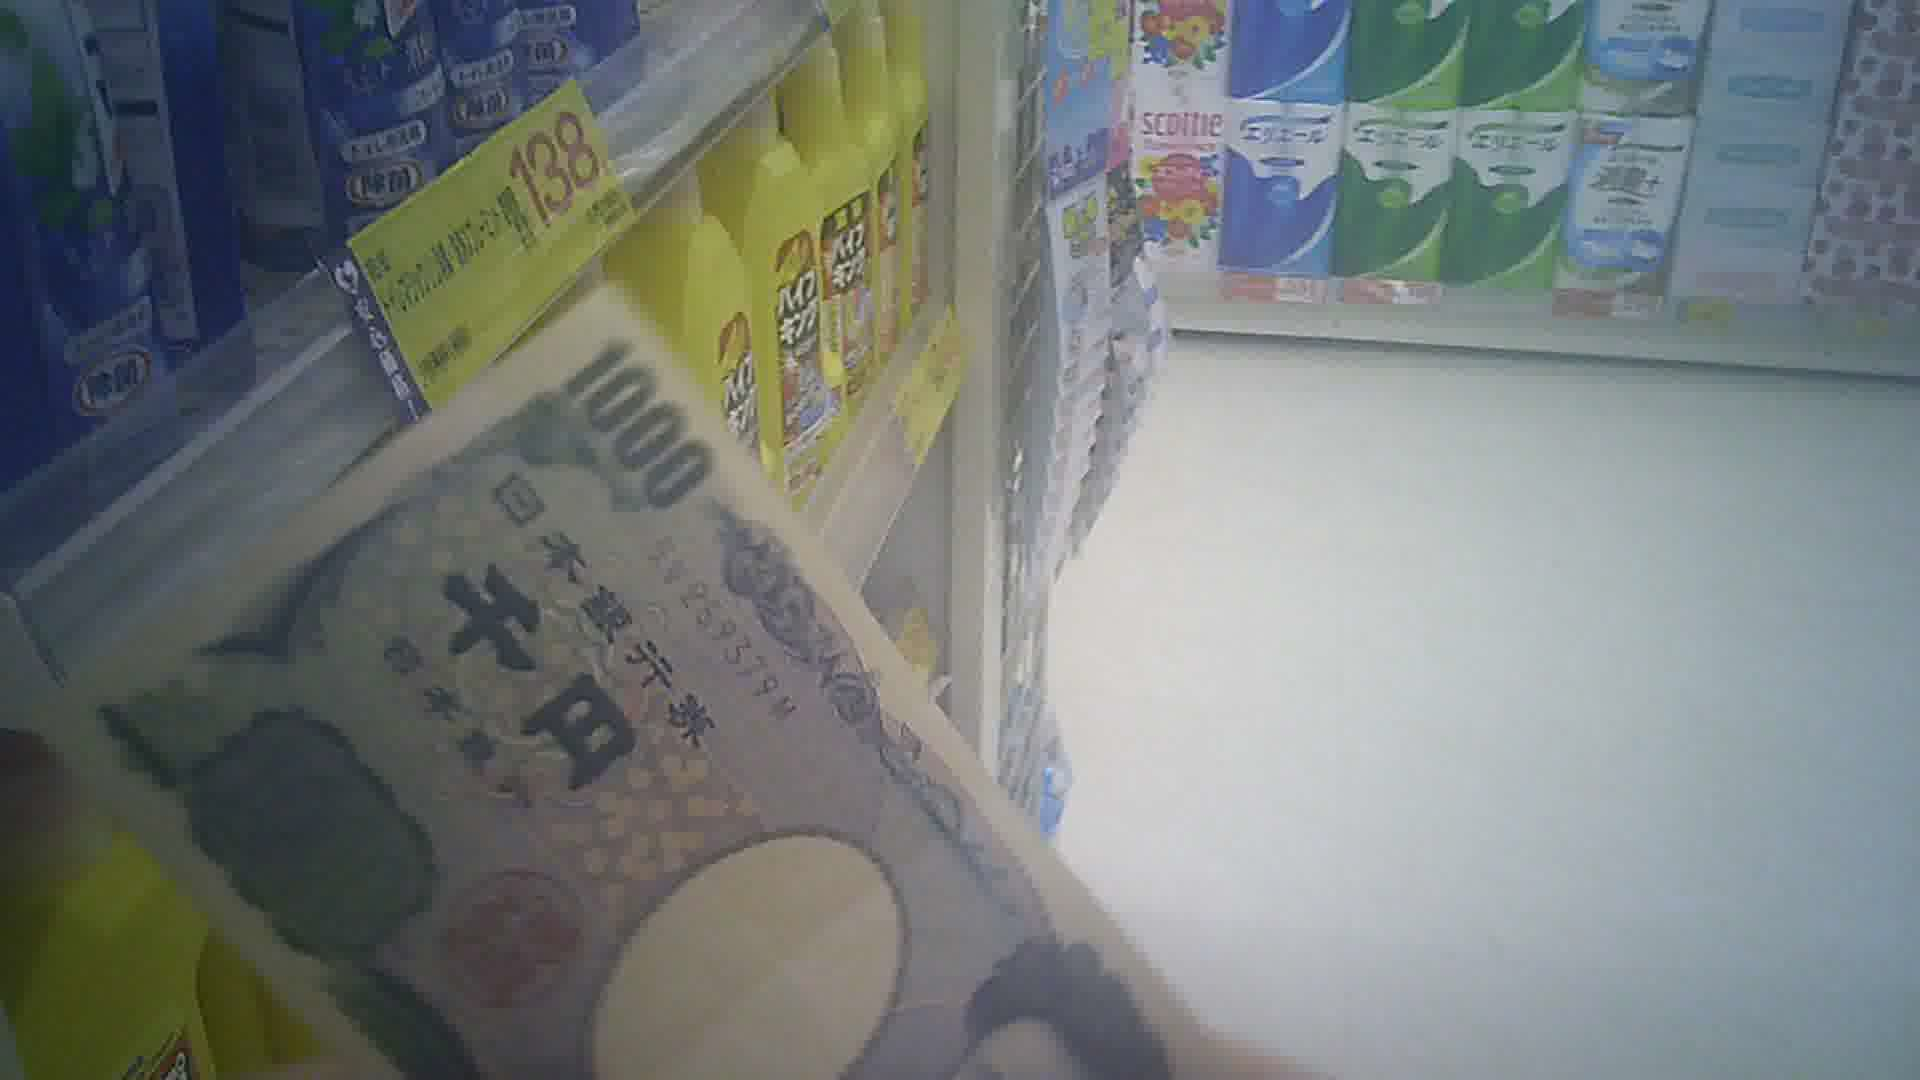1,000 Yen: (55, 301, 1207, 1069)
